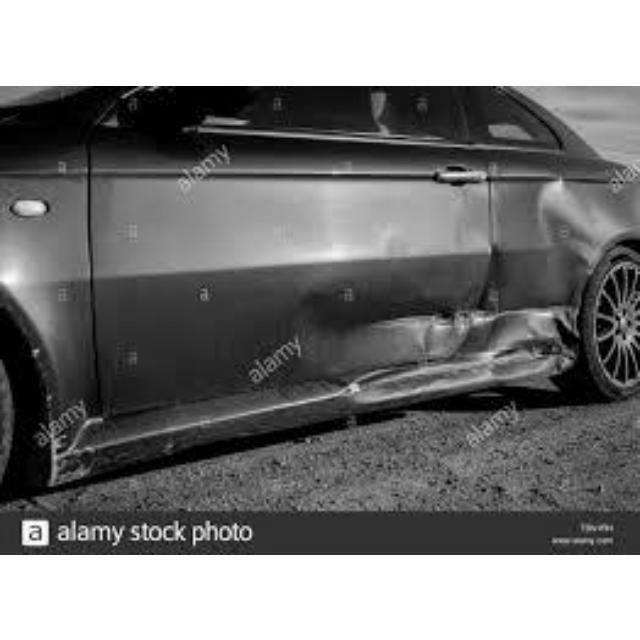Runningboard-Damage: (345, 352, 569, 405)
doorouter-dent: (96, 142, 491, 369)
quaterpanel-dent: (491, 150, 637, 350)
